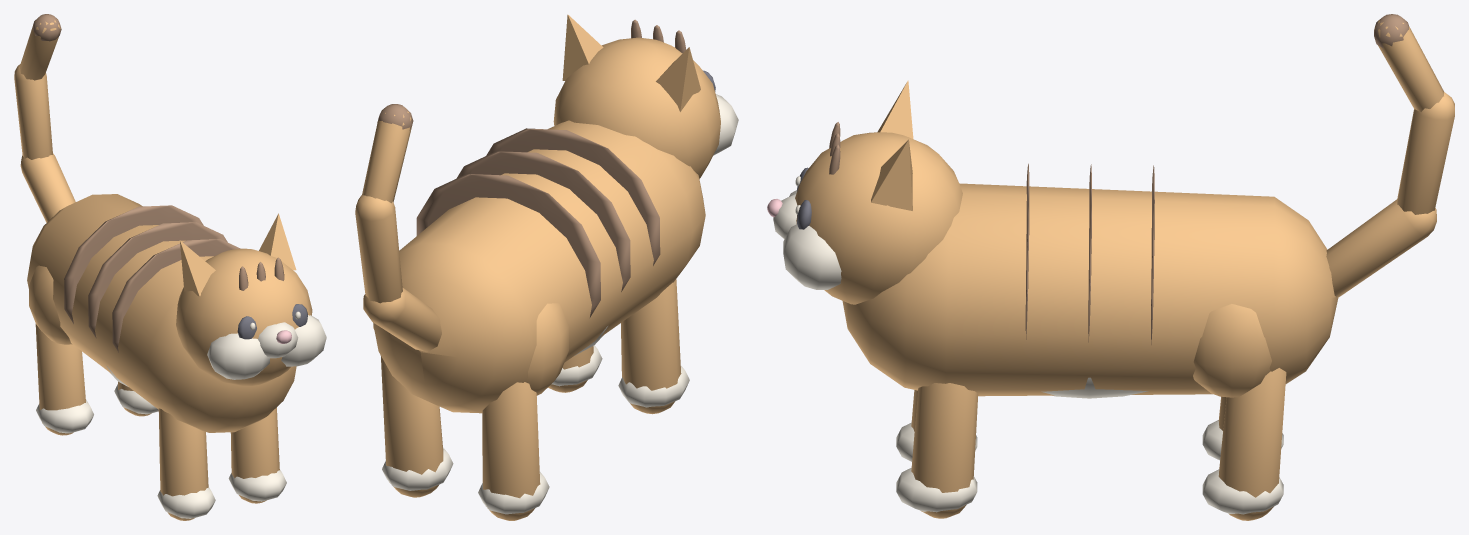
File: cat_ginger_tabby.glb
3 renders of one model, left to right at view 1: azimuth 30°, elevation 25°; view 2: azimuth 150°, elevation 25°; view 3: azimuth 270°, elevation 25°, orthographic. The views are drawn at different scales.
Parts seen in each view (by area): view 1: cat-standing; view 2: cat-standing; view 3: cat-standing.
Boxes of the visible parts, bbox=[...] form: cat-standing: bbox=[14, 14, 326, 520]; cat-standing: bbox=[355, 14, 738, 520]; cat-standing: bbox=[767, 14, 1454, 520].
Size of the model in its own units: 0.2211 by 0.5178 by 0.6759.
